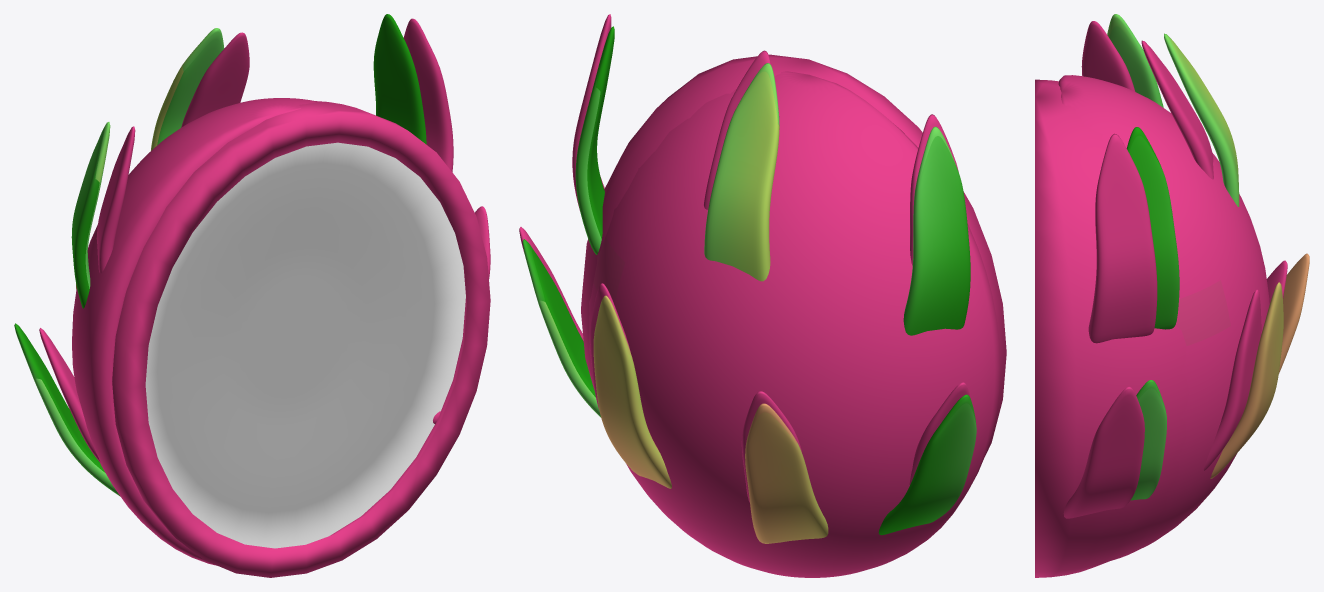
Rendered from pitahaya test.fbx.
3 renders of one model, left to right at view 1: azimuth 30°, elevation 25°; view 2: azimuth 150°, elevation 25°; view 3: azimuth 270°, elevation 25°, orthographic. The views are drawn at different scales.
Parts seen in each view (by area): view 1: Body.001, Body, String.013, String.009, String.011, String.007; view 2: Body, Body.001, String.009, String.013, String.007, String.011, String.010, String.012; view 3: Body, Body.001, String.013, String.008, String.012, String.009, String.011, String.010.
Boxes of the visible parts, x1,y1,x2,y2 form: Body.001: (112,101,490,577); Body: (14,14,426,565); String.013: (403,18,453,172); String.009: (181,32,249,127); String.011: (96,126,135,273); String.007: (39,328,100,463); Body: (522,26,1000,577); Body.001: (581,54,1006,455); String.009: (704,50,770,209); String.013: (572,14,611,211); String.007: (909,382,970,484); String.011: (910,114,958,265); String.010: (741,391,801,502); String.012: (590,283,630,409); Body: (1058,14,1309,560); Body.001: (1035,79,1189,577); String.013: (1088,133,1157,343); String.008: (1063,386,1144,518); String.012: (1203,289,1261,470); String.009: (1141,40,1213,179); String.011: (1081,21,1135,91); String.010: (1266,260,1287,303).
Size of the model in its own units: 241 by 262 by 127.
Materials: 4 (1 with a texture image).
